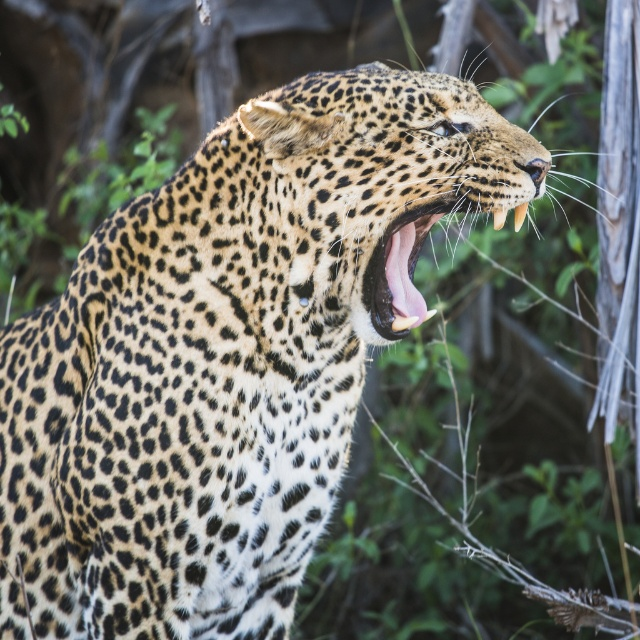Leopard: (0, 38, 620, 640)
